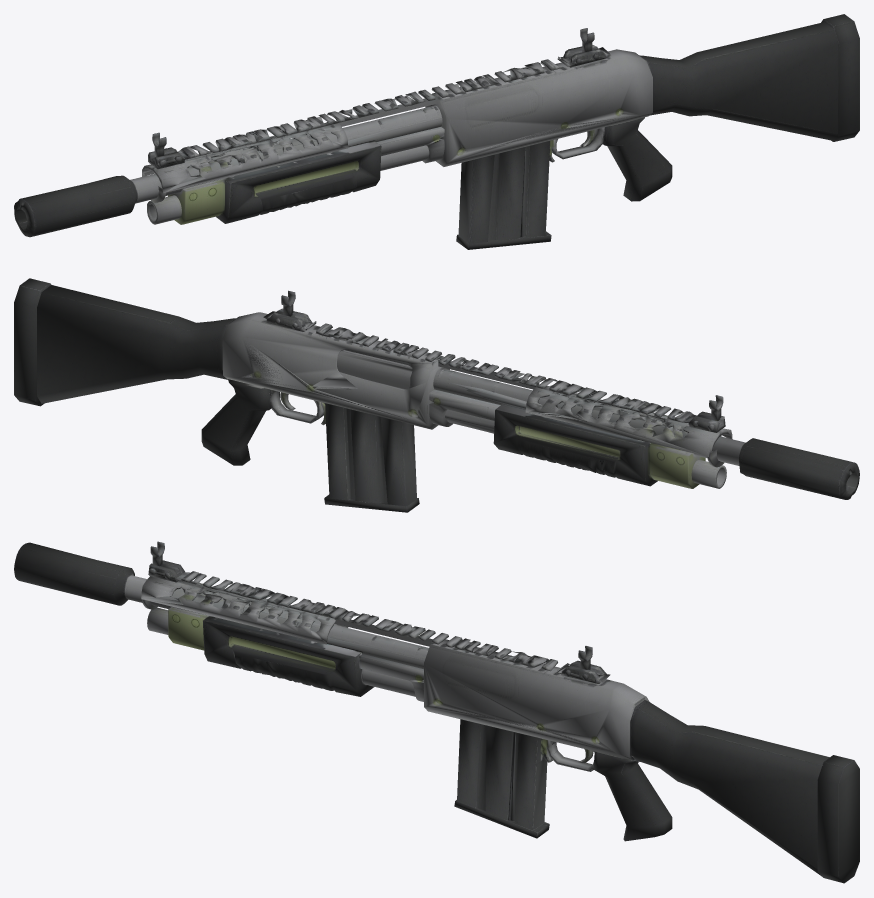
Rendered from sg_maul.glb.
The picture shows the model from 3 angles, top to bottom: view 1: azimuth 30°, elevation 25°; view 2: azimuth 150°, elevation 25°; view 3: azimuth 330°, elevation 25°; orthographic projection.
Size of the model in its own units: 0.9575 by 0.2163 by 0.0518.
1 material, 1 textured.
